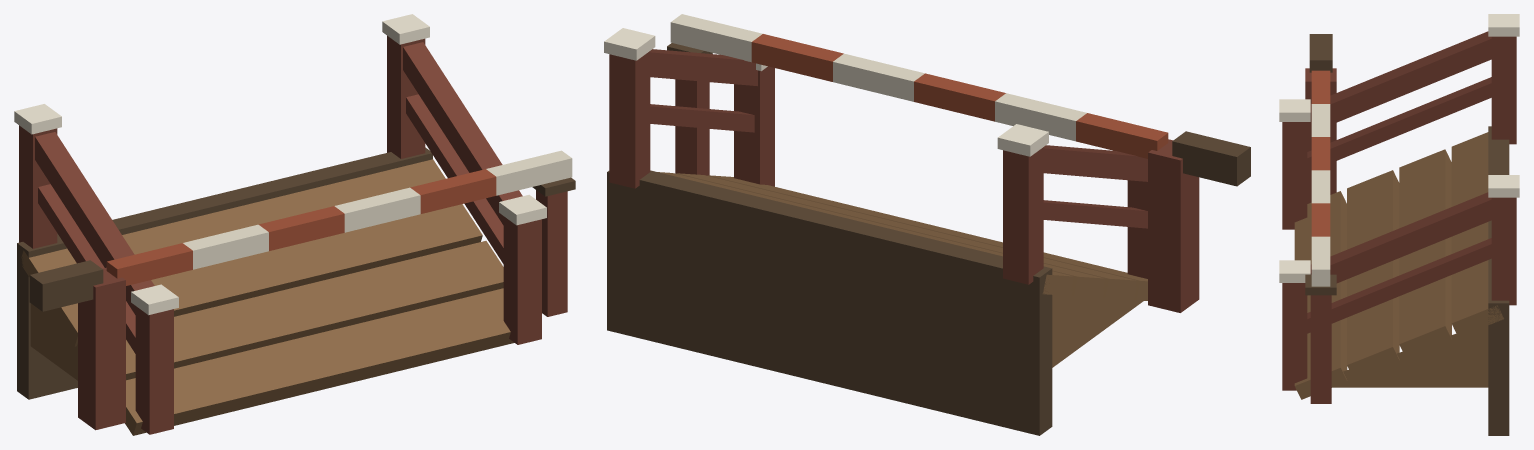
The model's file is drawbridge-end.glb.
3 renders of one model, left to right at view 1: azimuth 30°, elevation 25°; view 2: azimuth 150°, elevation 25°; view 3: azimuth 270°, elevation 25°, orthographic. The views are drawn at different scales.
Visible parts, largest first — view 1: ramp, barrier; view 2: ramp, barrier; view 3: ramp, barrier.
Boxes of the visible parts, <box> form: ramp: <box>14,14,575,435</box>; barrier: <box>29,150,572,311</box>; ramp: <box>604,28,1199,435</box>; barrier: <box>670,14,1250,186</box>; ramp: <box>1279,14,1519,435</box>; barrier: <box>1309,34,1332,286</box>.
Size of the model in its own units: 5.25 by 2.6 by 2.3.
1 material, 1 textured.
